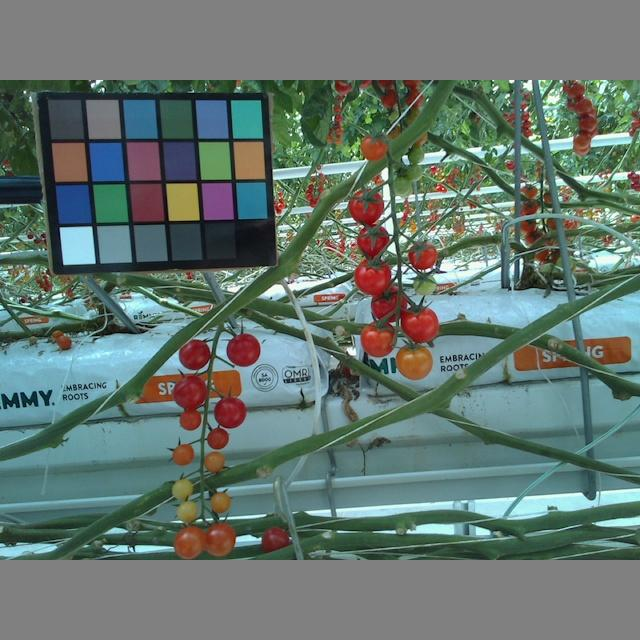pink: (201, 521, 236, 556), (395, 345, 432, 378), (173, 526, 207, 557), (258, 526, 292, 556), (358, 137, 387, 162), (171, 441, 195, 466), (170, 479, 193, 504), (205, 429, 230, 450), (211, 490, 233, 513), (203, 450, 225, 471), (179, 410, 200, 431), (177, 501, 200, 520)
red: (401, 302, 441, 344), (369, 286, 410, 323), (355, 258, 394, 295), (360, 319, 397, 357), (170, 376, 208, 411), (354, 223, 390, 259), (350, 187, 383, 223), (228, 334, 262, 368), (176, 337, 211, 370), (215, 395, 246, 430), (405, 243, 439, 270)
